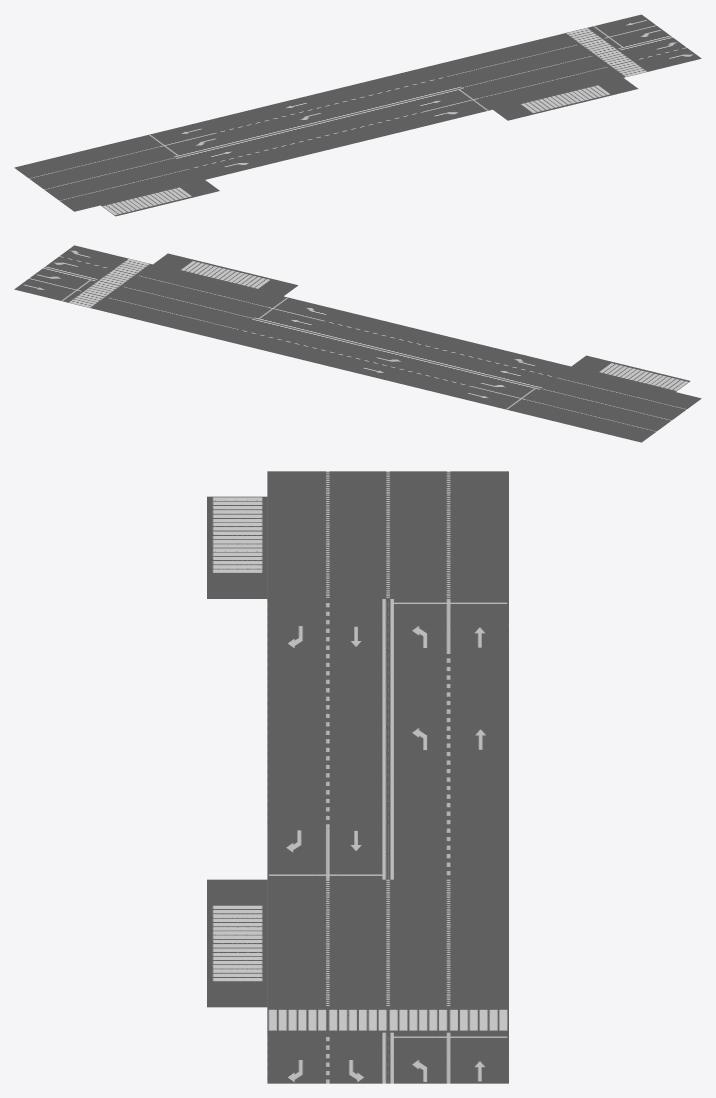
The model's file is Most.fbx.
3 views of the same model, one above another, from view 1: azimuth 30°, elevation 25°; view 2: azimuth 150°, elevation 25°; view 3: azimuth 270°, elevation 25° (orthographic). The views are drawn at different scales.
Visible parts, largest first — view 1: Most; view 2: Most; view 3: Most.
Boxes of the visible parts, x1,y1,x2,y2 form: Most: (14,14,701,216); Most: (14,245,701,442); Most: (207,471,508,1083).
Size of the model in its own units: 108 by 1.7e-06 by 22.5.
